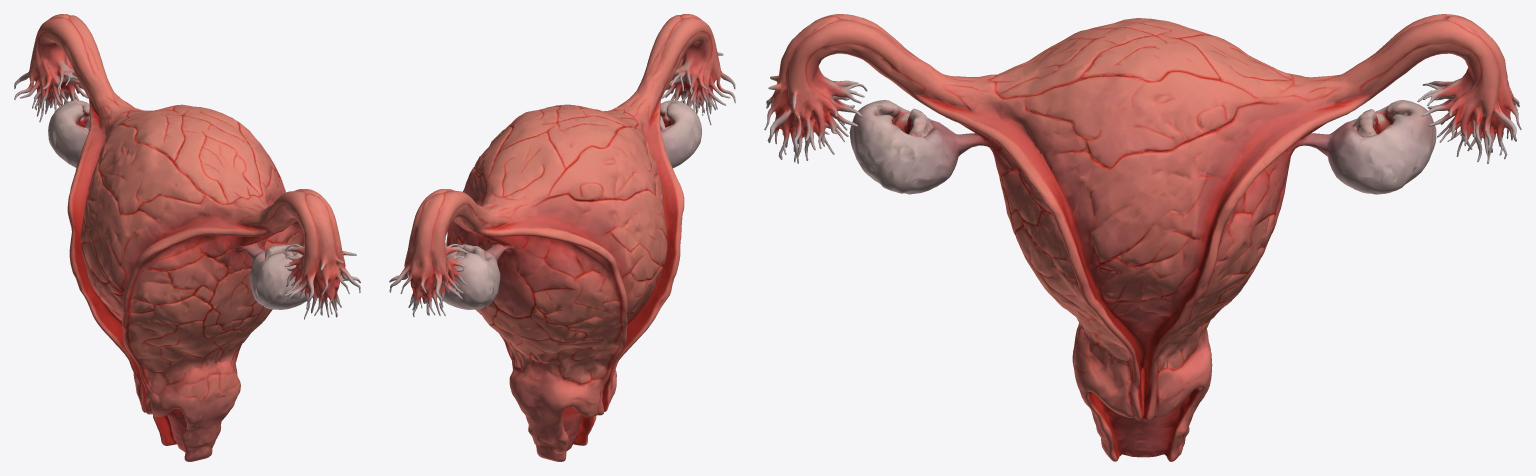
File: reproductive.glb
The picture shows the model from 3 angles, left to right: view 1: azimuth 30°, elevation 25°; view 2: azimuth 150°, elevation 25°; view 3: azimuth 270°, elevation 25°; orthographic projection. The views are drawn at different scales.
Visible parts, largest first — view 1: tripo_node_708f45d6-a737-4a4c-b24d-5f2d97d9ca67; view 2: tripo_node_708f45d6-a737-4a4c-b24d-5f2d97d9ca67; view 3: tripo_node_708f45d6-a737-4a4c-b24d-5f2d97d9ca67.
Boxes of the visible parts, bbox=[...] form: tripo_node_708f45d6-a737-4a4c-b24d-5f2d97d9ca67: bbox=[14, 14, 360, 461]; tripo_node_708f45d6-a737-4a4c-b24d-5f2d97d9ca67: bbox=[389, 14, 735, 461]; tripo_node_708f45d6-a737-4a4c-b24d-5f2d97d9ca67: bbox=[764, 14, 1521, 461].
Size of the model in its own units: 0.3475 by 0.6396 by 1.
Materials: 1 (1 with a texture image).
